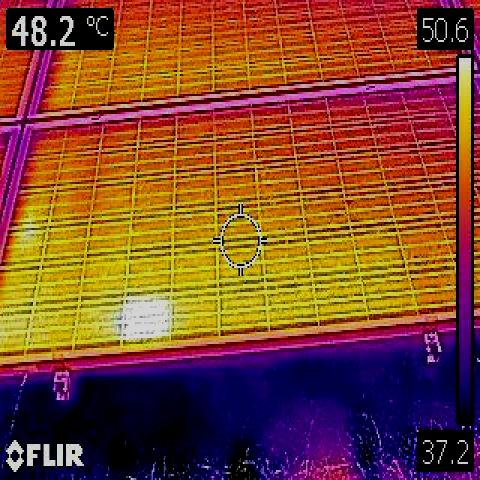fault: (126, 297, 168, 342)
